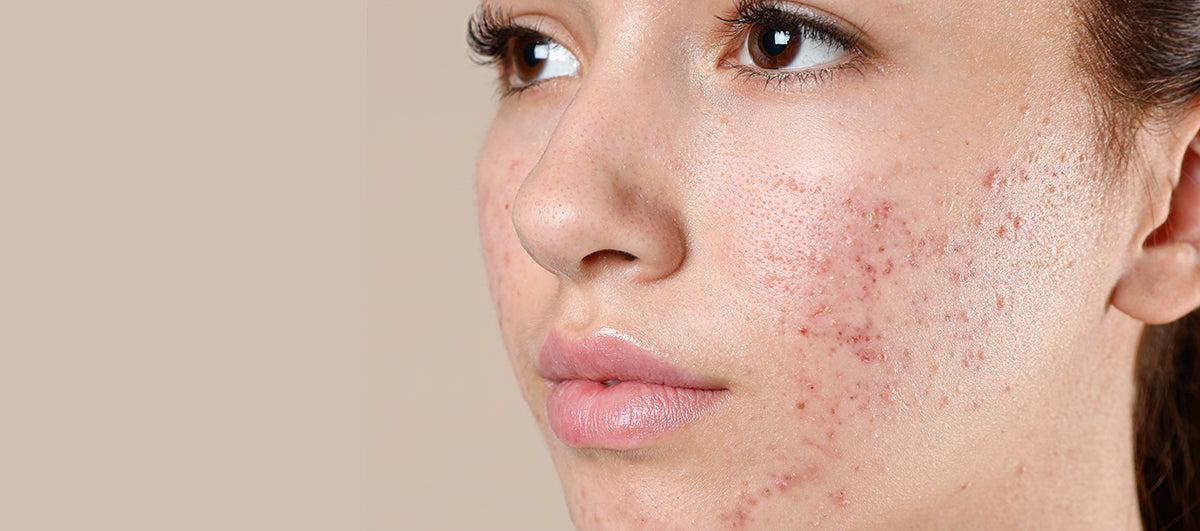Englarged-Pores: (687, 129, 759, 276)
Oily-Skin: (497, 0, 1063, 531)
acne marks: (781, 164, 986, 386)
